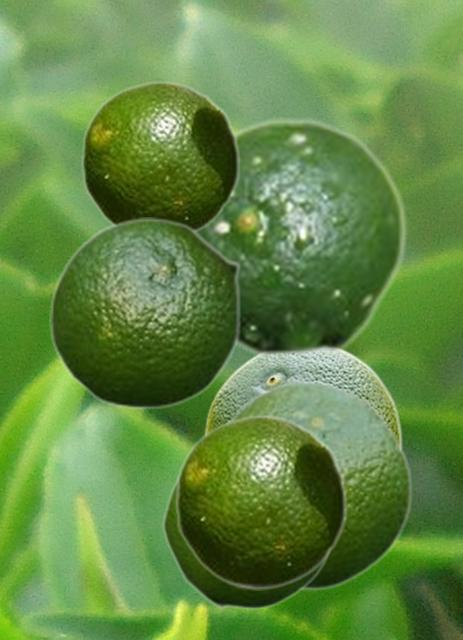calamansi: (200, 117, 407, 358), (224, 378, 412, 590), (49, 217, 241, 409), (174, 414, 347, 589), (80, 80, 240, 232), (161, 473, 334, 609), (204, 349, 401, 443)
